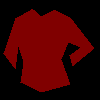abbigliamento_uomo: (3, 9, 94, 92)
